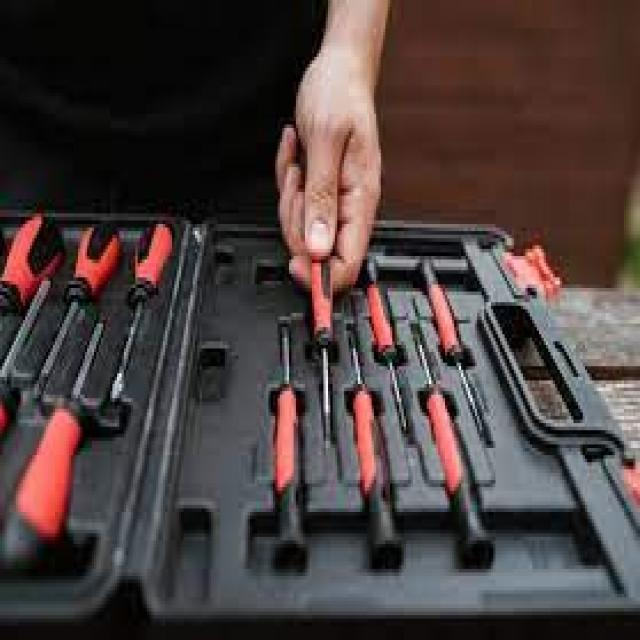screwdriver: (0, 311, 112, 574), (412, 327, 496, 576), (343, 318, 407, 582), (31, 222, 123, 400), (418, 258, 493, 460), (106, 220, 174, 409), (270, 318, 314, 574), (359, 256, 412, 441), (310, 230, 348, 450)
